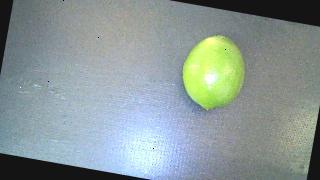EXPORTACION: (177, 31, 250, 116)
